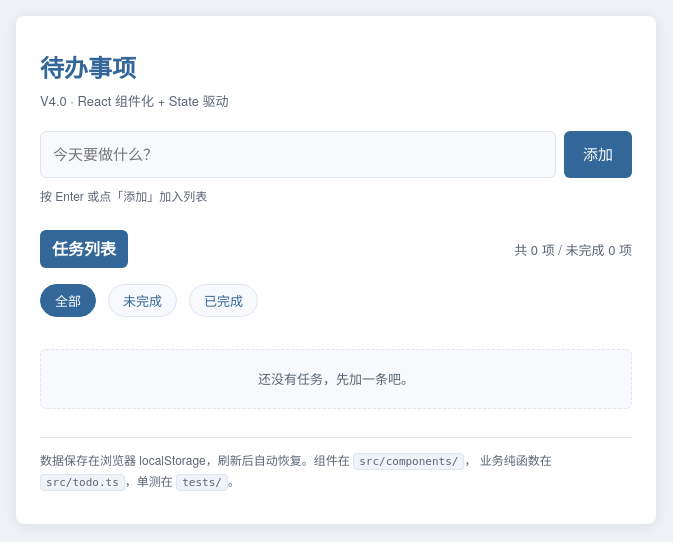
轨道 B：State 驱动的 UI 行为 › 添加：输入框清空、列表多一项、State 与页面一致
This screenshot has width=673, height=542.
Type "任务A" into the field named "新任务内容" at (298, 154), box [40,131,556,178]
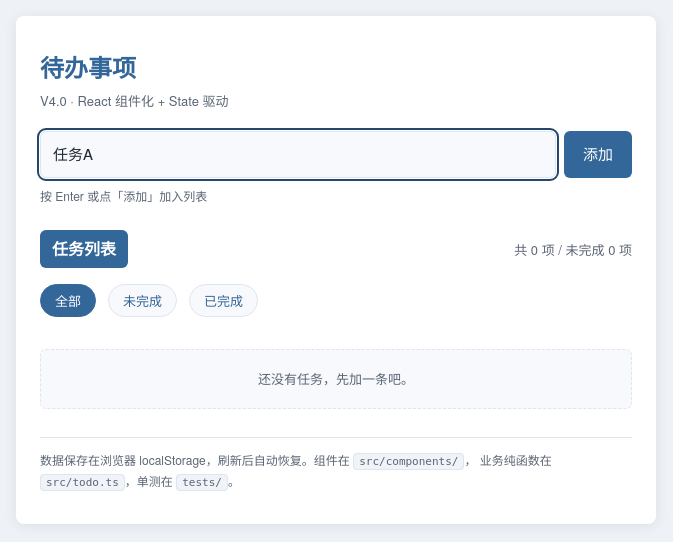
Click the button "添加" at (598, 154), box [564,131,632,178]
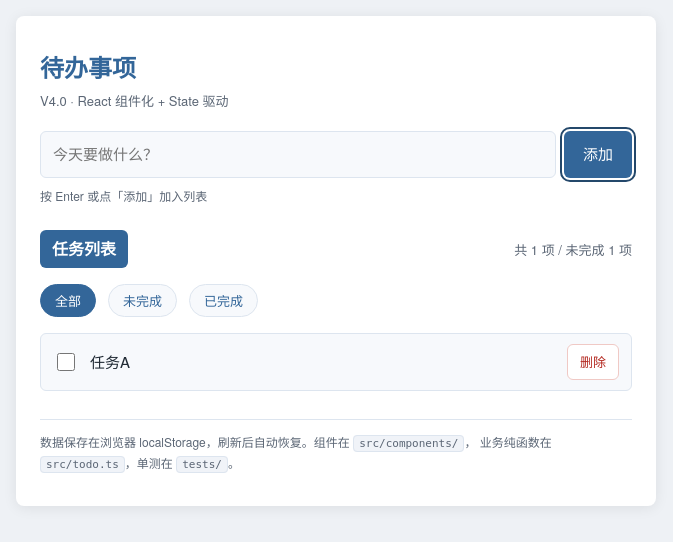
Result: the field named "新任务内容" is empty at [40,131,556,178]
